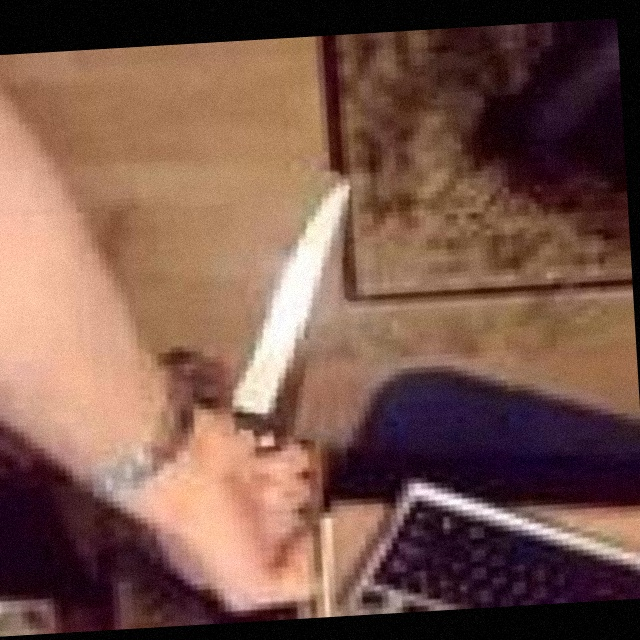Sharp-Object: (225, 168, 356, 443)
